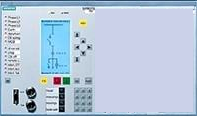

The page's visual inventory and layout, read from the dashboard file:
{"tool":"powerbi","page":{"name":"Intro","canvas":[1280,720],"ordinal":0},"visuals":[{"type":"textbox","box":[10.6,0,1269.4,525.6],"z":1},{"type":"image","box":[11,536,1203,184],"z":2}]}

Visuals, with their boxes on the page's 1280x720 design canvas (x1, y1, x2, y2). These are canvas units, not pixel positions in the 197x117 screenshot, which may show the page scaled, cropped or inside an application window:
textbox: locate(11, 0, 1280, 526)
image: locate(11, 536, 1214, 720)
